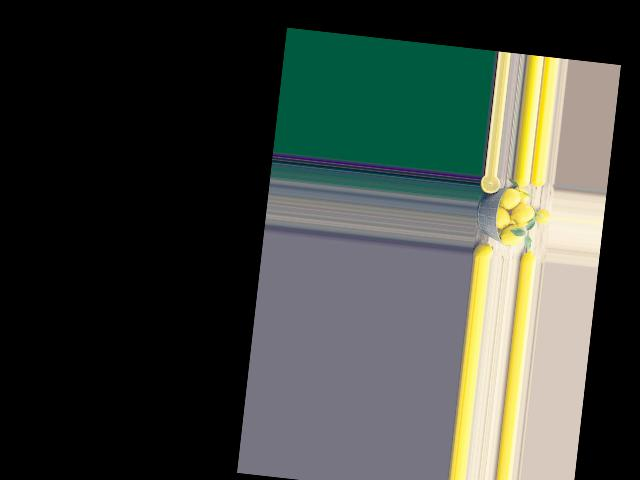lemon: (493, 186, 521, 213)
